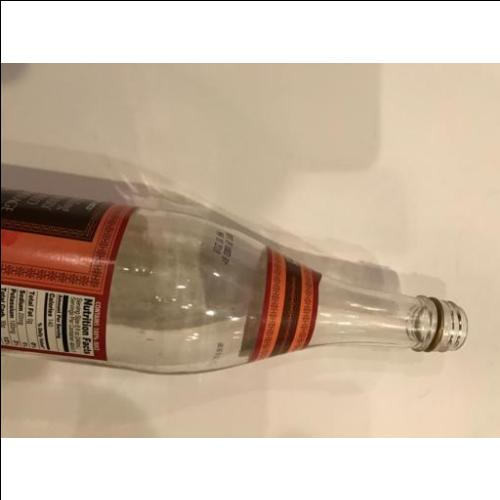glass: (3, 186, 469, 380)
